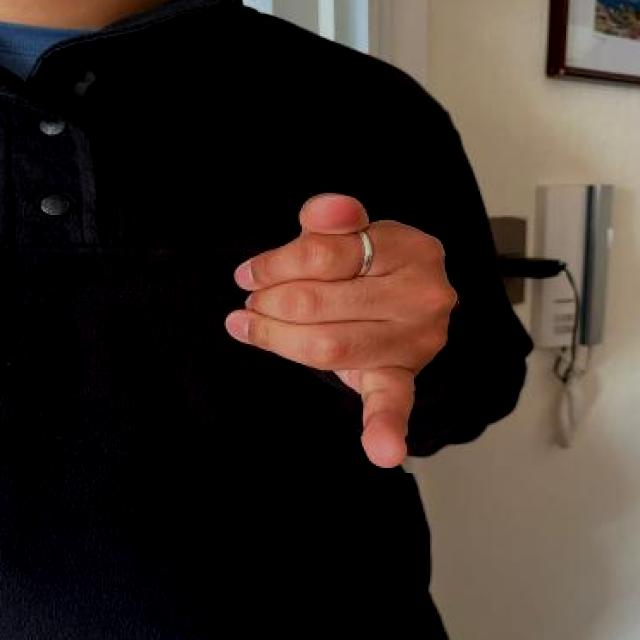Z: (220, 188, 461, 473)
